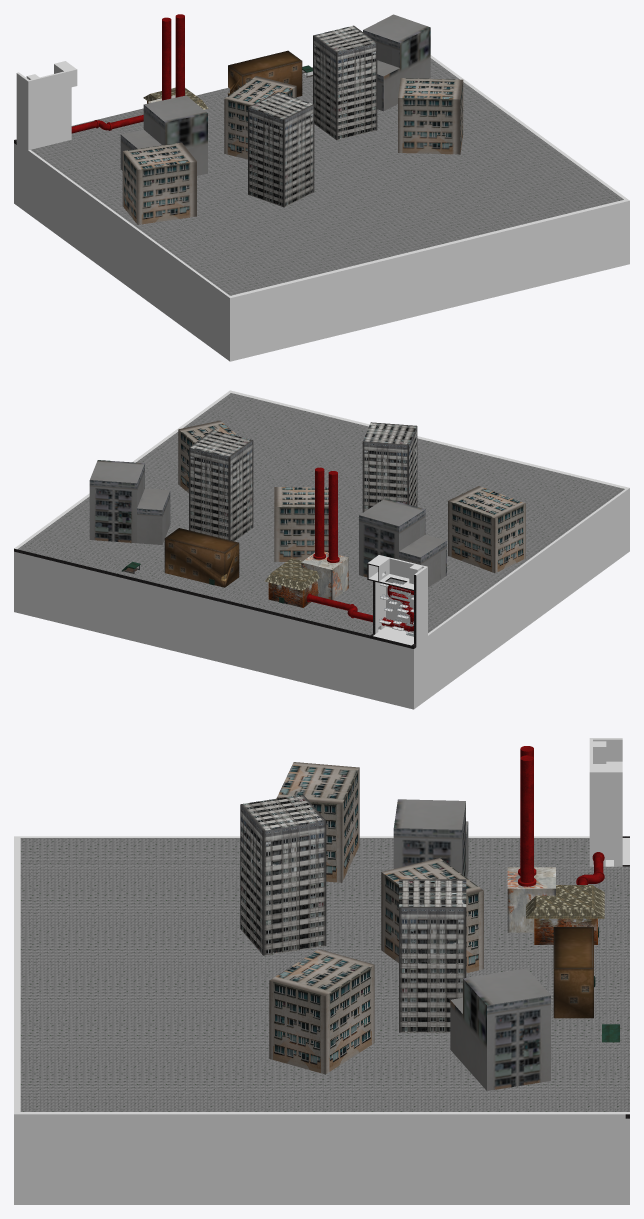
File: ground_zero_DEMO.glb
3 views of the same model, one above another, from view 1: azimuth 30°, elevation 25°; view 2: azimuth 150°, elevation 25°; view 3: azimuth 270°, elevation 25° (orthographic). The views are drawn at different scales.
Parts seen in each view (by area): view 1: Ground0Layout, Building.005, Building, Building.006, Building.004, Building.003, Building.002, Building.001, SpawnLevelBuilding, Pipe, Pipe.001, MainPipe; view 2: Ground0Layout, Building, Building.003, Building.006, Building.002, Building.005, SpawnLevelBuilding, Building.001, Factory.001, Building.004, MainPipe, FactoryRoof (+3 smaller); view 3: Ground0Layout, Building.005, Building.004, Building.003, Building, Building.006, Building.002, Building.001, SpawnLevelBuilding, FactoryRoof, Factory.001, Pipe (+1 smaller).
Part boxes in pixels (left/top/right/bottom): Ground0Layout: left=14, top=55, right=629, bottom=361; Building.005: left=248, top=92, right=314, bottom=207; Building: left=313, top=25, right=377, bottom=140; Building.006: left=122, top=142, right=196, bottom=224; Building.004: left=398, top=78, right=463, bottom=154; Building.003: left=363, top=14, right=430, bottom=111; Building.002: left=120, top=95, right=207, bottom=175; Building.001: left=224, top=76, right=296, bottom=159; SpawnLevelBuilding: left=227, top=50, right=302, bottom=96; Pipe: left=175, top=14, right=184, bottom=97; Pipe.001: left=162, top=17, right=171, bottom=100; MainPipe: left=71, top=115, right=143, bottom=133; Ground0Layout: left=14, top=390, right=629, bottom=709; Building: left=189, top=430, right=253, bottom=541; Building.003: left=89, top=460, right=170, bottom=544; Building.006: left=448, top=486, right=525, bottom=572; Building.002: left=359, top=498, right=446, bottom=587; Building.005: left=362, top=422, right=417, bottom=512; SpawnLevelBuilding: left=164, top=528, right=239, bottom=587; Building.001: left=274, top=487, right=328, bottom=561; Factory.001: left=301, top=551, right=348, bottom=599; Building.004: left=178, top=420, right=239, bottom=492; MainPipe: left=306, top=585, right=413, bottom=631; FactoryRoof: left=265, top=558, right=319, bottom=590; Ground0Layout: left=14, top=738, right=629, bottom=1204; Building.005: left=240, top=794, right=326, bottom=955; Building.004: left=269, top=949, right=374, bottom=1074; Building.003: left=450, top=968, right=550, bottom=1090; Building: left=399, top=879, right=466, bottom=1032; Building.006: left=276, top=762, right=359, bottom=882; Building.002: left=393, top=799, right=468, bottom=877; Building.001: left=381, top=858, right=483, bottom=973; SpawnLevelBuilding: left=553, top=927, right=593, bottom=1018; FactoryRoof: left=526, top=885, right=604, bottom=918; Factory.001: left=507, top=867, right=555, bottom=932; Pipe: left=518, top=755, right=536, bottom=886.
Size of what is drawn, in the model's own units: 81.73 by 35.53 by 76.52.
22 materials, 20 textured.
